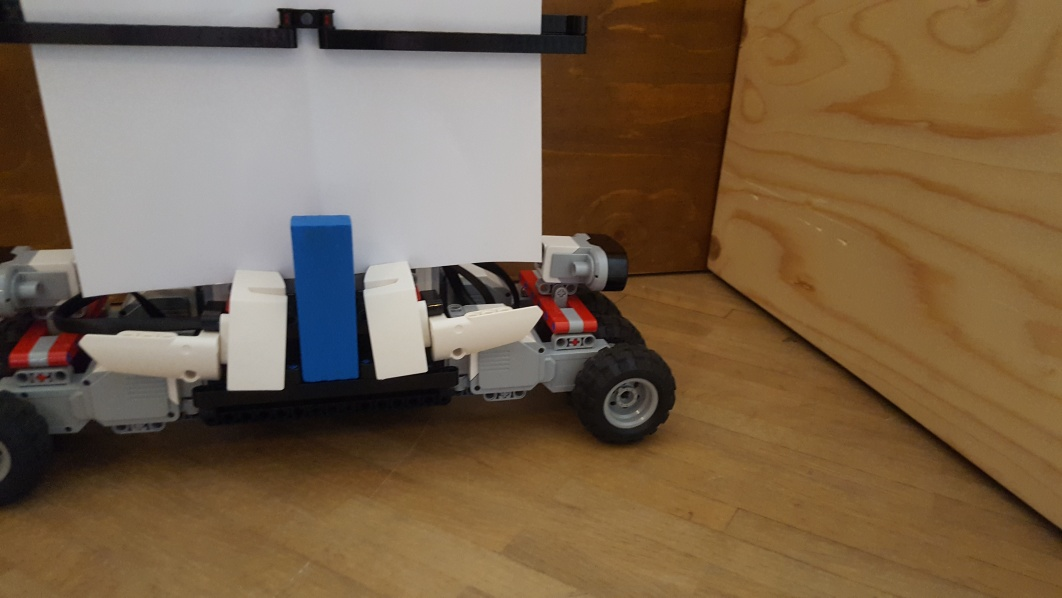beam: (288, 213, 363, 382)
